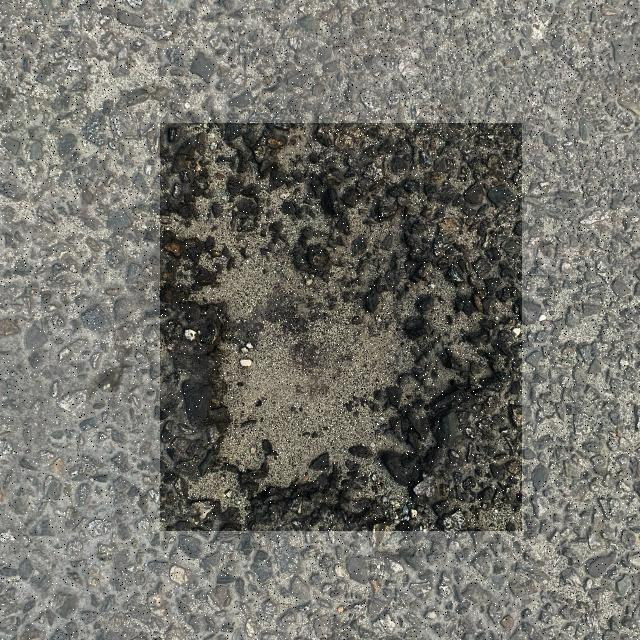damaged: (160, 123, 522, 531)
